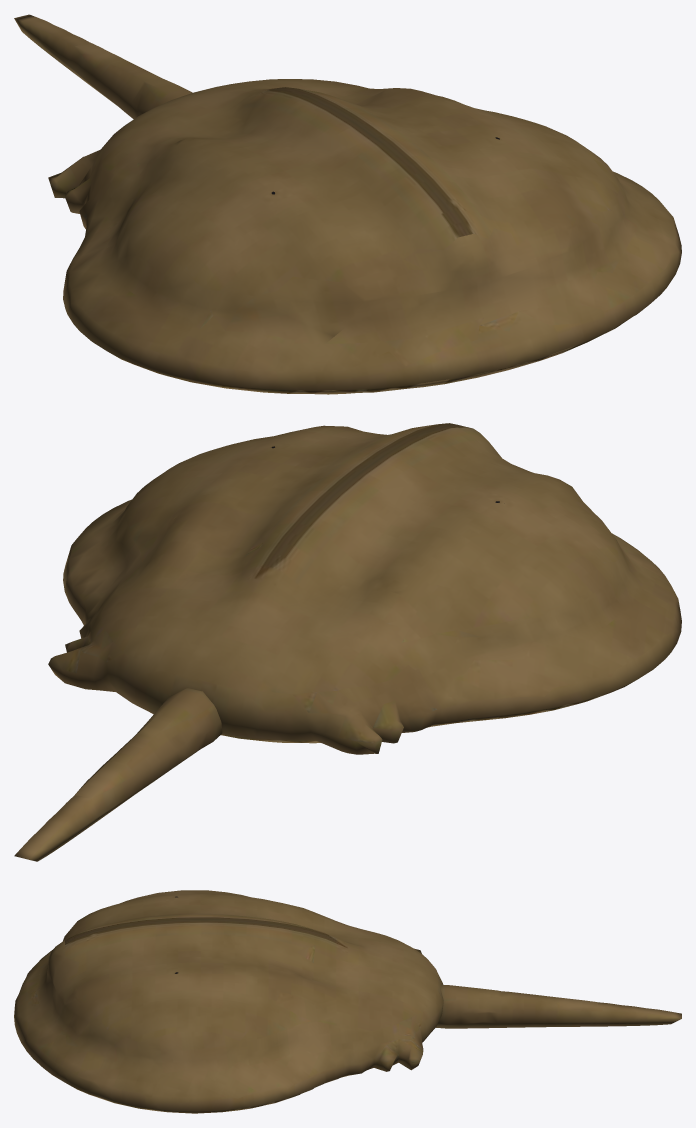
Rendered from horseshoe_crab.glb.
The picture shows the model from 3 angles, top to bottom: view 1: azimuth 30°, elevation 25°; view 2: azimuth 150°, elevation 25°; view 3: azimuth 270°, elevation 25°; orthographic projection. The views are drawn at different scales.
Visible parts, largest first — view 1: horseshoe_crab, tail; view 2: horseshoe_crab, tail; view 3: horseshoe_crab, tail.
Part boxes in pixels (x1=…): horseshoe_crab: x1=48, y1=79, x2=681, y2=394; tail: x1=14, y1=14, x2=192, y2=119; horseshoe_crab: x1=48, y1=423, x2=681, y2=754; tail: x1=14, y1=688, x2=222, y2=861; horseshoe_crab: x1=14, y1=890, x2=443, y2=1113; tail: x1=436, y1=985, x2=681, y2=1028.
Bounding box in the file's own units: 0.1821 × 0.0574 × 0.2701.
1 material, 1 textured.
